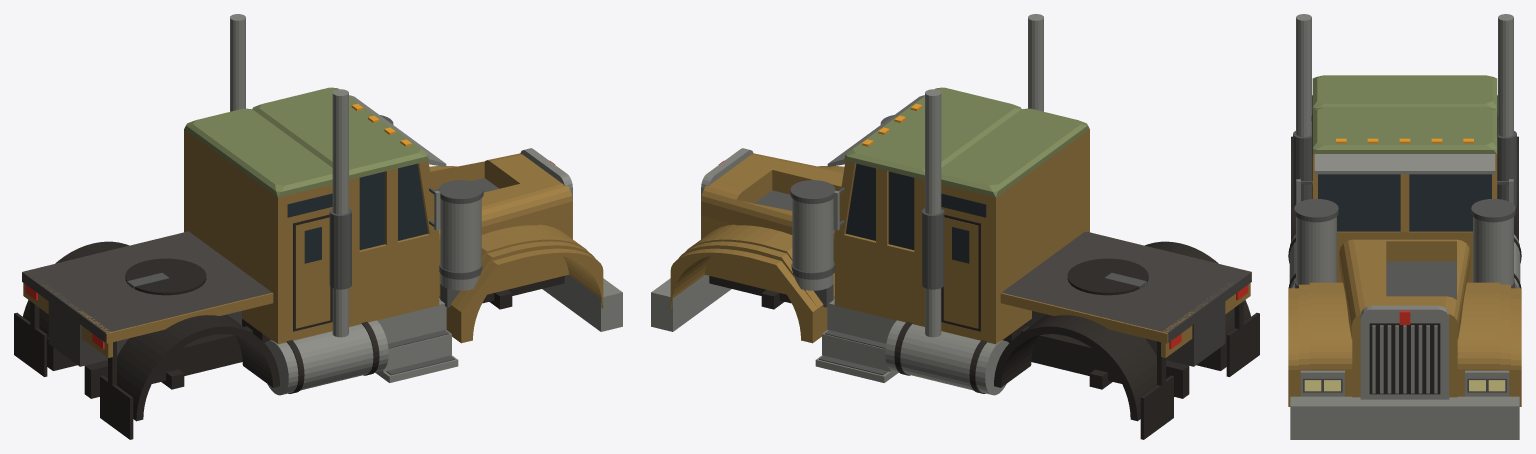
Rendered from base_tractor.glb.
The picture shows the model from 3 angles, left to right: view 1: azimuth 30°, elevation 25°; view 2: azimuth 150°, elevation 25°; view 3: azimuth 270°, elevation 25°; orthographic projection.
Parts seen in each view (by area): view 1: base_tractor; view 2: base_tractor; view 3: base_tractor.
Part boxes in pixels (x1,y1,x2,y2): base_tractor: [14, 14, 622, 439]; base_tractor: [651, 14, 1259, 439]; base_tractor: [1288, 14, 1521, 439].
Bounding box in the file's own units: 6.4 × 3.62 × 2.63.
